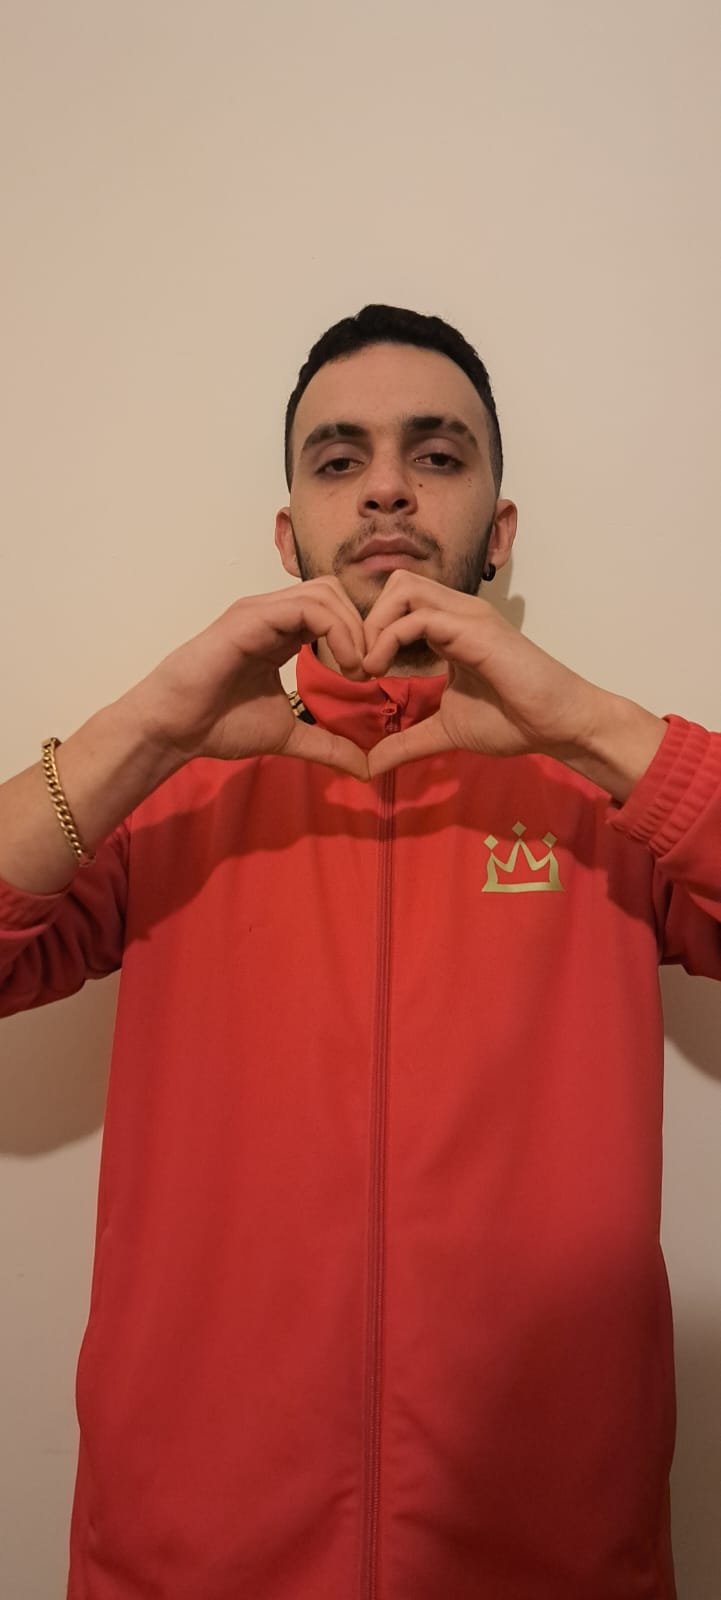cuore: (158, 557, 605, 791)
